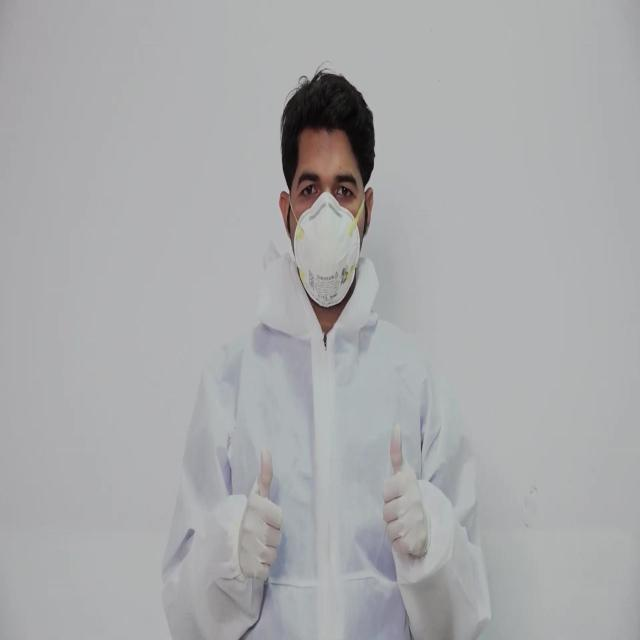gloves: (382, 422, 428, 562), (238, 448, 284, 582)
